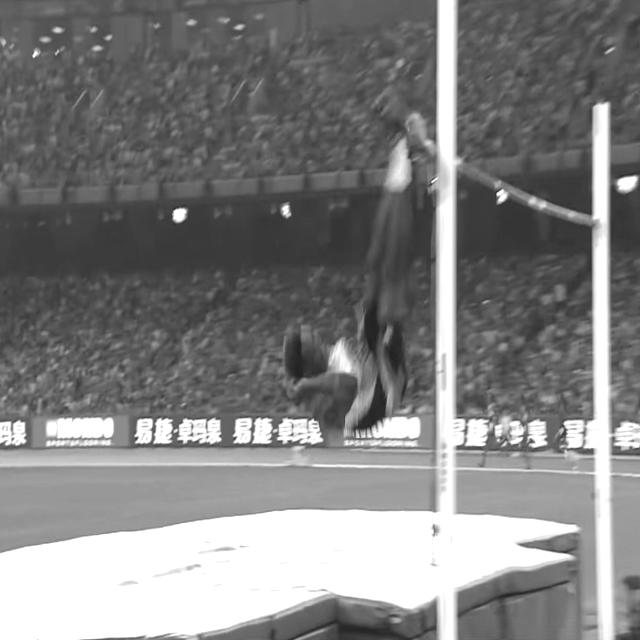land: (283, 86, 412, 431)
